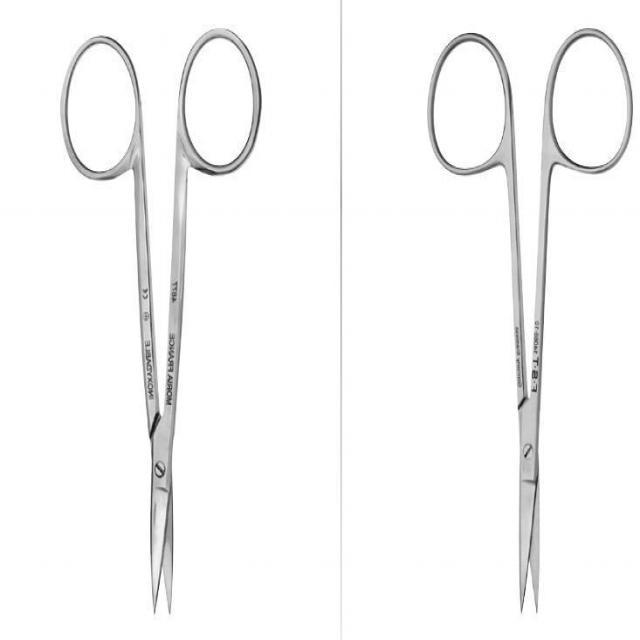Iris: (424, 23, 634, 618), (58, 21, 269, 612)
